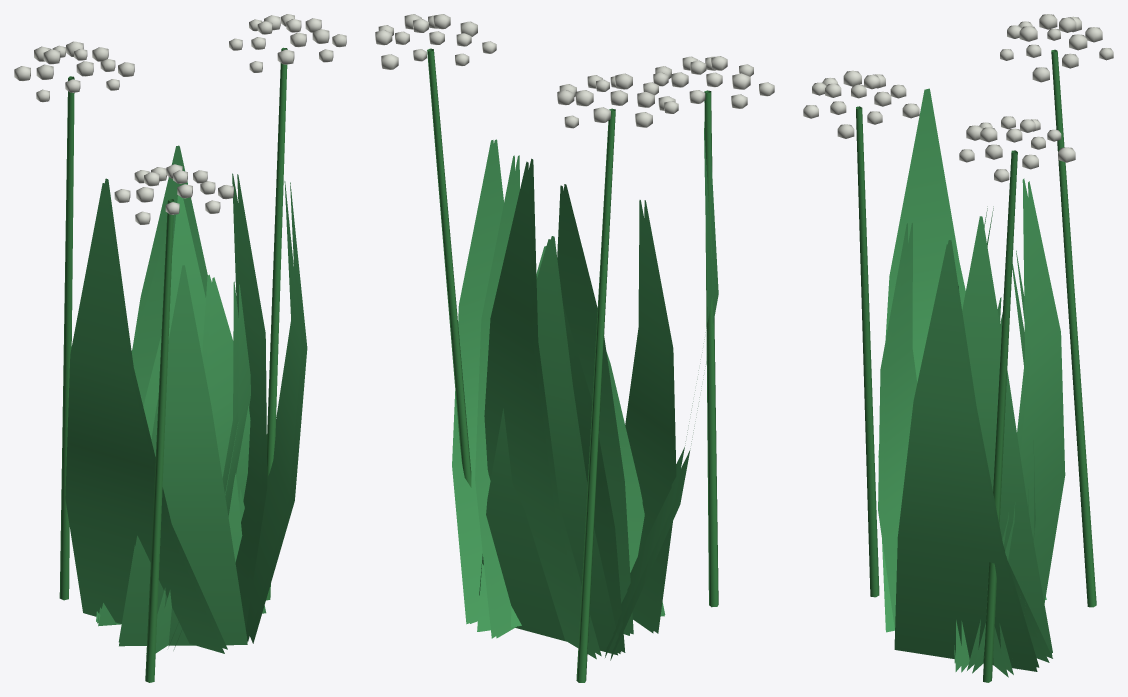
The model's file is ing_wild_garlic.gltf.
The picture shows the model from 3 angles, left to right: view 1: azimuth 30°, elevation 25°; view 2: azimuth 150°, elevation 25°; view 3: azimuth 270°, elevation 25°; orthographic projection. The views are drawn at different scales.
Visible parts, largest first — view 1: ing_wild_garlic; view 2: ing_wild_garlic; view 3: ing_wild_garlic.
Part boxes in pixels (left/top/right/bottom): ing_wild_garlic: left=14, top=14, right=346, bottom=682; ing_wild_garlic: left=375, top=14, right=774, bottom=682; ing_wild_garlic: left=803, top=14, right=1113, bottom=682.
Size of what is drawn, in the model's own units: 0.1746 by 0.3153 by 0.1538.
